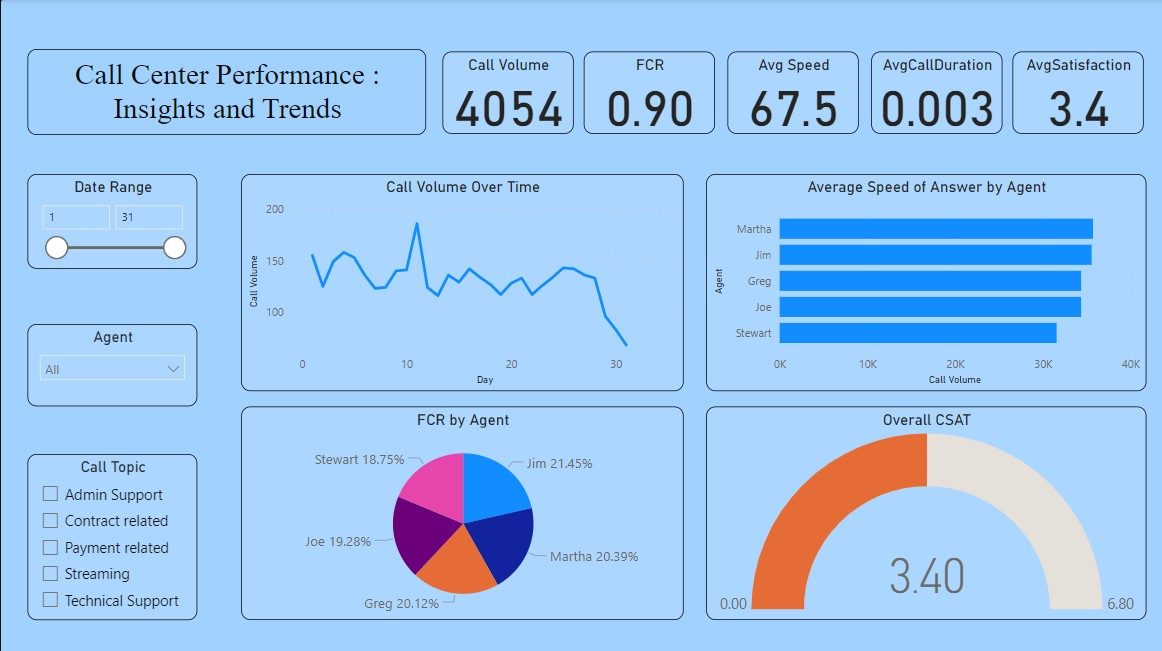

The dashboard page shown, as its layout file describes it:
{"tool":"powerbi","page":{"name":"Page 1","canvas":[1280,720],"ordinal":0},"visuals":[{"type":"card","title":"Call Volume","fields":{"Values":["Sheet1.Call Id"]},"box":[486.3,57.9,144.1,90.6],"z":0},{"type":"card","title":"FCR","fields":{"Values":["Sheet1.FCR Rate"]},"box":[641.1,57.4,144.1,90.6],"z":1000},{"type":"card","title":"Avg Speed","fields":{"Values":["Sheet1.Speed of answer in seconds"]},"box":[798.9,57.4,144.1,90.6],"z":2000},{"type":"card","title":"AvgCallDuration","fields":{"Values":["Sheet1.TalkDuration"]},"box":[956.7,57.4,144.1,90.6],"z":3000},{"type":"card","title":"AvgSatisfaction","fields":{"Values":["Sheet1.Satisfaction rating"]},"box":[1111.8,57.4,144.1,90.6],"z":4000},{"type":"lineChart","title":"Call Volume Over Time","fields":{"Y":["Sheet1.Call Id"],"Category":["Sheet1.Date.Variation.Date Hierarchy.Day"]},"box":[264.8,192.1,485.8,238.8],"z":5000},{"type":"barChart","title":"Average Speed of Answer by Agent","fields":{"Category":["Sheet1.Agent"],"Y":["Sheet1.Speed of answer in seconds"]},"box":[775.3,192.1,483,238.8],"z":6000},{"type":"pieChart","title":"FCR by Agent","fields":{"Y":["Sheet1.FCR"],"Category":["Sheet1.Agent"]},"box":[264.8,447.3,485.8,234.6],"z":7000},{"type":"gauge","title":"Overall CSAT","fields":{"Y":["Sheet1.Satisfaction rating"]},"box":[775.3,447.3,483,234.6],"z":8000},{"type":"slicer","title":"Date Range","fields":{"Values":["Sheet1.Date.Variation.Date Hierarchy.Day"]},"box":[30.2,192.1,186.6,104.3],"z":9000},{"type":"slicer","title":"Agent","fields":{"Values":["Sheet1.Agent"]},"box":[30.2,356.8,186.6,90.6],"z":10000},{"type":"slicer","title":"Call Topic","fields":{"Values":["Sheet1.Topic"]},"box":[30.2,499.5,186.6,182.5],"z":11000},{"type":"textbox","box":[30.2,54.9,437.7,94.7],"z":12000}]}

Visuals, with their boxes in screenshot pixels (x1, y1, x2, y2), scaled from the page's 1280x720 canvas onto the 1162x651 screenshot:
"Call Volume" card: bbox(441, 52, 572, 134)
"FCR" card: bbox(582, 52, 713, 134)
"Avg Speed" card: bbox(725, 52, 856, 134)
"AvgCallDuration" card: bbox(869, 52, 999, 134)
"AvgSatisfaction" card: bbox(1009, 52, 1140, 134)
"Call Volume Over Time" lineChart: bbox(240, 174, 681, 390)
"Average Speed of Answer by Agent" barChart: bbox(704, 174, 1142, 390)
"FCR by Agent" pieChart: bbox(240, 404, 681, 617)
"Overall CSAT" gauge: bbox(704, 404, 1142, 617)
"Date Range" slicer: bbox(27, 174, 197, 268)
"Agent" slicer: bbox(27, 323, 197, 405)
"Call Topic" slicer: bbox(27, 452, 197, 617)
textbox: bbox(27, 50, 425, 135)
